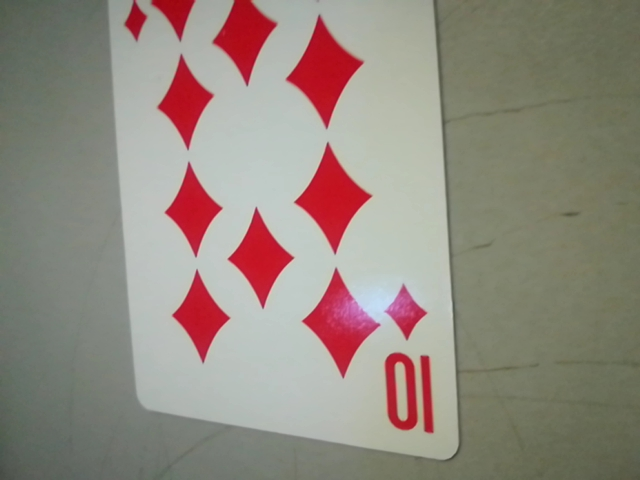fk 10: (375, 277, 446, 452)
